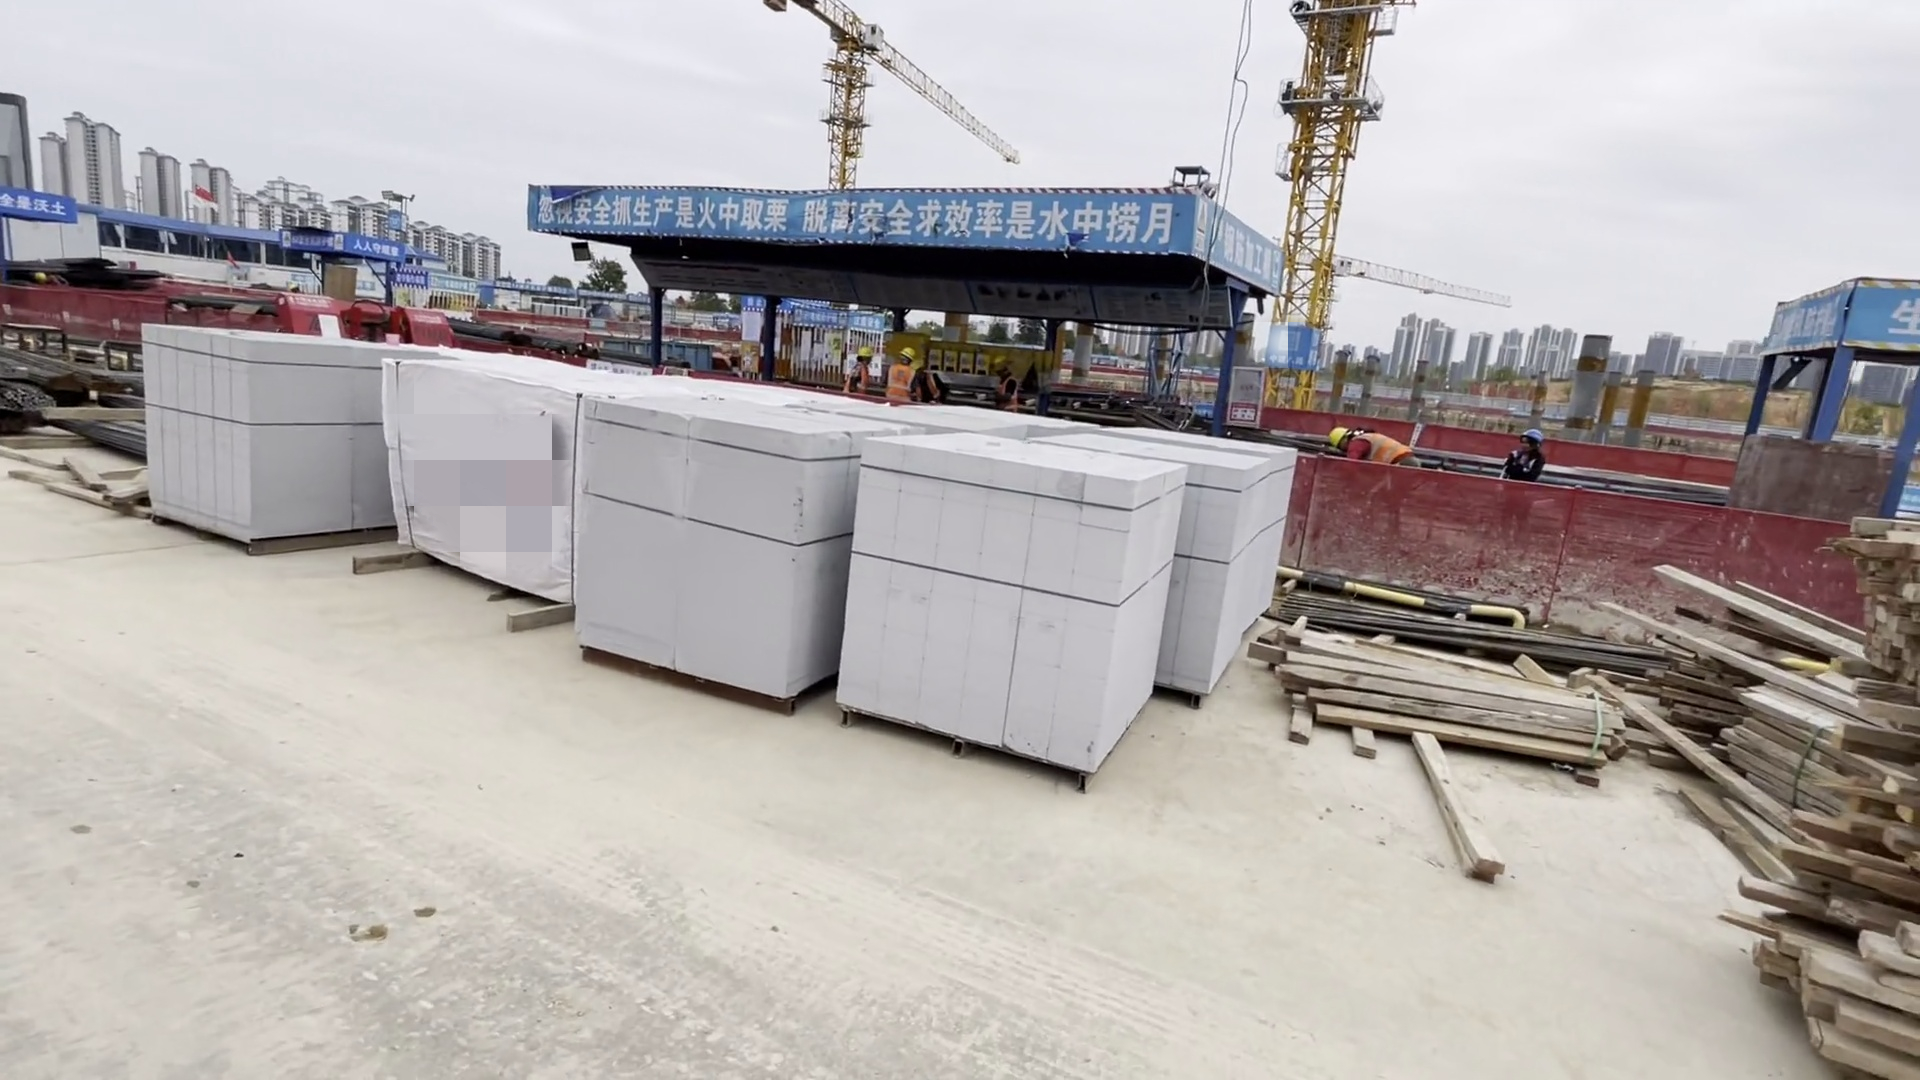helmet: (1327, 422, 1349, 455), (898, 345, 920, 373), (1521, 423, 1541, 446), (861, 345, 873, 360)
person: (1321, 420, 1419, 470), (876, 332, 925, 405), (1500, 420, 1542, 495), (987, 350, 1025, 418), (843, 344, 873, 402)
vest: (1356, 430, 1421, 477), (836, 358, 876, 399), (884, 364, 924, 401), (995, 377, 1022, 410)
